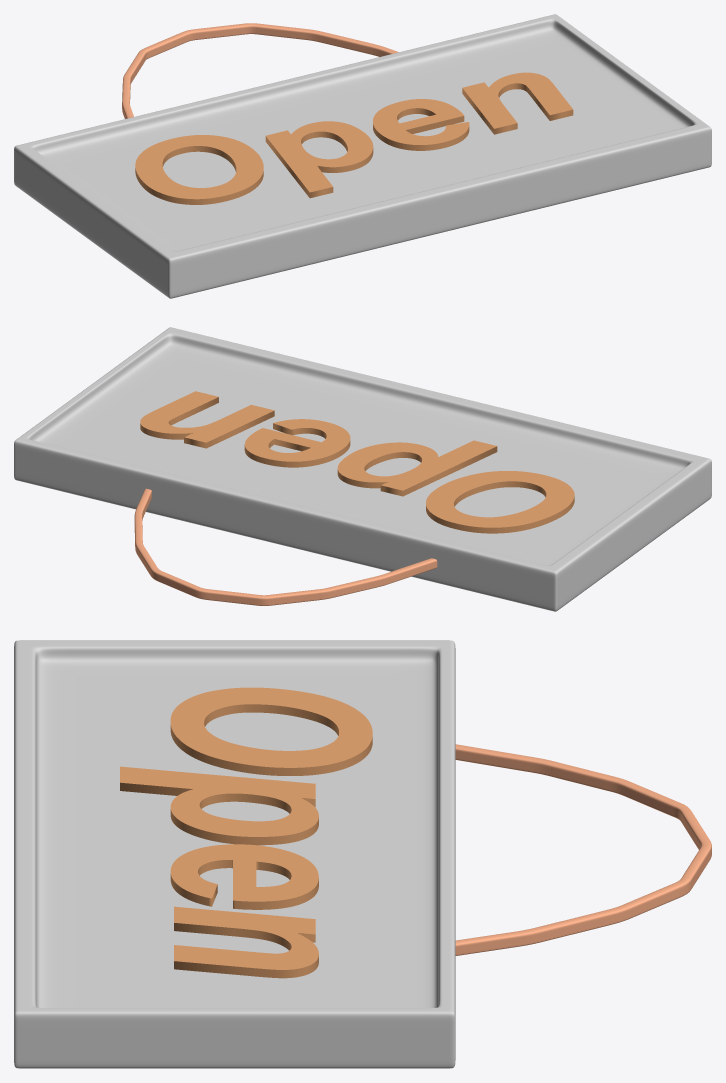
Rendered from SignSign2.fbx.
The picture shows the model from 3 angles, top to bottom: view 1: azimuth 30°, elevation 25°; view 2: azimuth 150°, elevation 25°; view 3: azimuth 270°, elevation 25°; orthographic projection. The views are drawn at different scales.
Visible parts, largest first — view 1: Cube.004, Text, Cylinder; view 2: Cube.004, Text, Cylinder; view 3: Cube.004, Text, Cylinder.
Boxes of the visible parts, box(x1,y1,x2,y2) form: Cube.004: box(14, 14, 711, 298); Text: box(135, 72, 573, 204); Cylinder: box(122, 23, 398, 118); Cube.004: box(14, 327, 711, 611); Text: box(140, 391, 574, 533); Cylinder: box(134, 488, 437, 605); Cube.004: box(14, 640, 455, 1068); Text: box(120, 687, 372, 978); Cylinder: box(455, 744, 711, 955).
Size of the model in its own units: 487 by 34.51 by 384.
